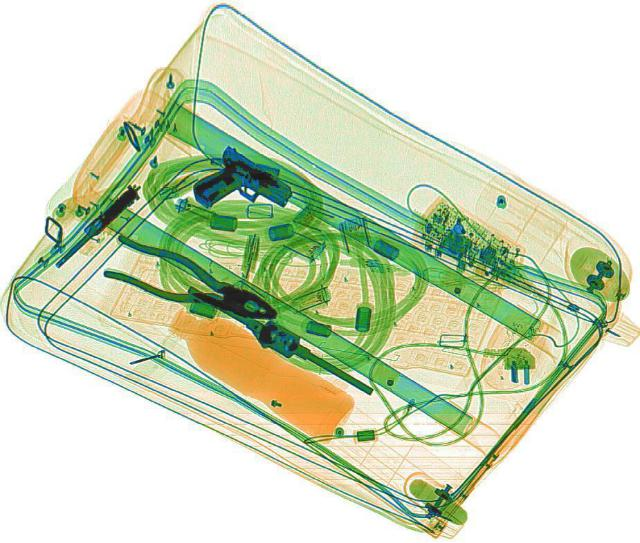Gun: (177, 139, 305, 237)
Pliers: (93, 234, 287, 331)
